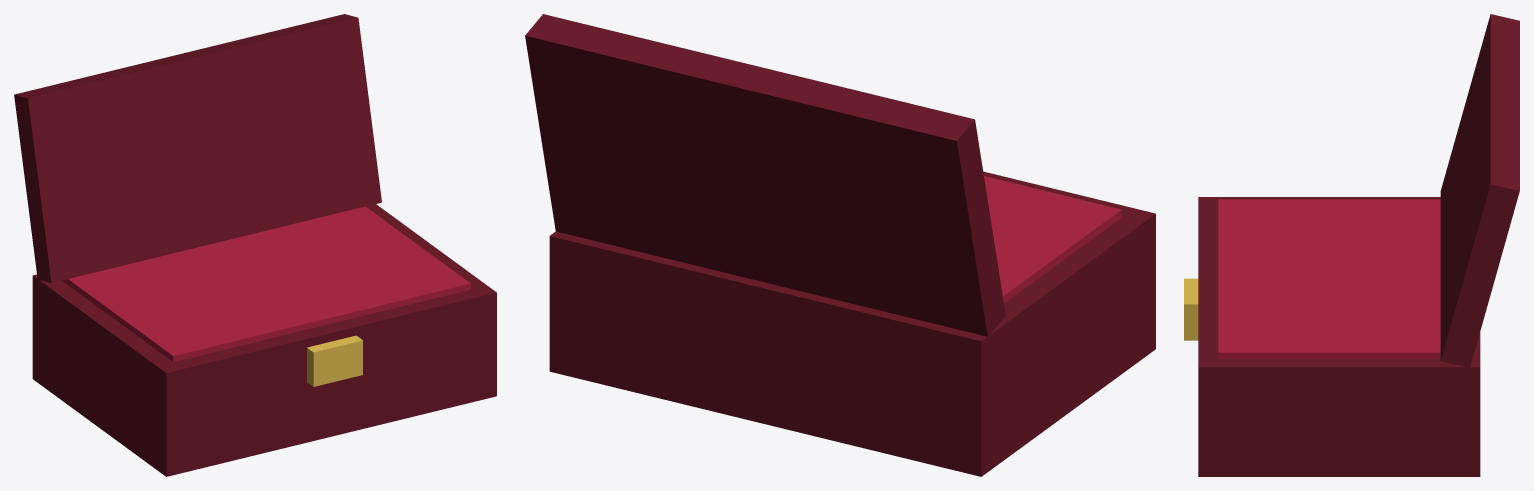
The model's file is rink_jewelry_box.glb.
3 renders of one model, left to right at view 1: azimuth 30°, elevation 25°; view 2: azimuth 150°, elevation 25°; view 3: azimuth 270°, elevation 25°, orthographic. The views are drawn at different scales.
Visible parts, largest first — view 1: lid_jewelry_box, base_jewelry_box, velvet_jewelry_velvet, clasp_jewelry_gold; view 2: lid_jewelry_box, base_jewelry_box, velvet_jewelry_velvet; view 3: base_jewelry_box, velvet_jewelry_velvet, lid_jewelry_box, clasp_jewelry_gold.
Boxes of the visible parts, x1,y1,x2,y2 form: lid_jewelry_box: [14, 14, 381, 283]; base_jewelry_box: [32, 204, 496, 476]; velvet_jewelry_velvet: [62, 206, 470, 361]; clasp_jewelry_gold: [307, 335, 362, 386]; lid_jewelry_box: [525, 14, 1005, 336]; base_jewelry_box: [549, 171, 1155, 476]; velvet_jewelry_velvet: [984, 176, 1121, 303]; base_jewelry_box: [1198, 197, 1480, 476]; velvet_jewelry_velvet: [1218, 199, 1440, 358]; lid_jewelry_box: [1440, 14, 1519, 367]; clasp_jewelry_gold: [1184, 278, 1198, 340].
Bounding box in the file's own units: 0.2 × 0.1603 × 0.1666.
